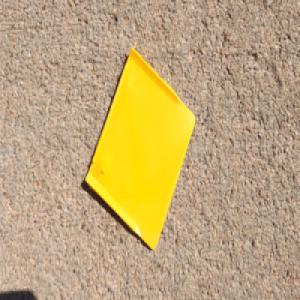PlasticPart: (83, 43, 194, 247)
